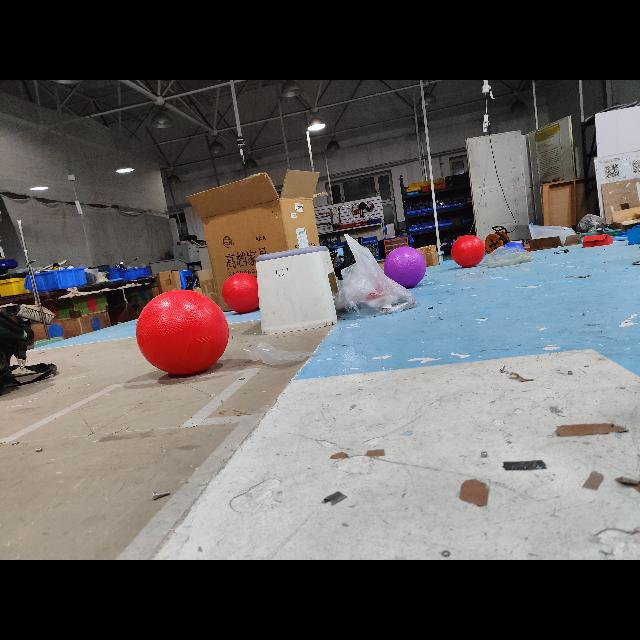P: (382, 246, 426, 290)
R: (136, 288, 230, 376), (222, 272, 264, 316), (450, 233, 486, 270)
